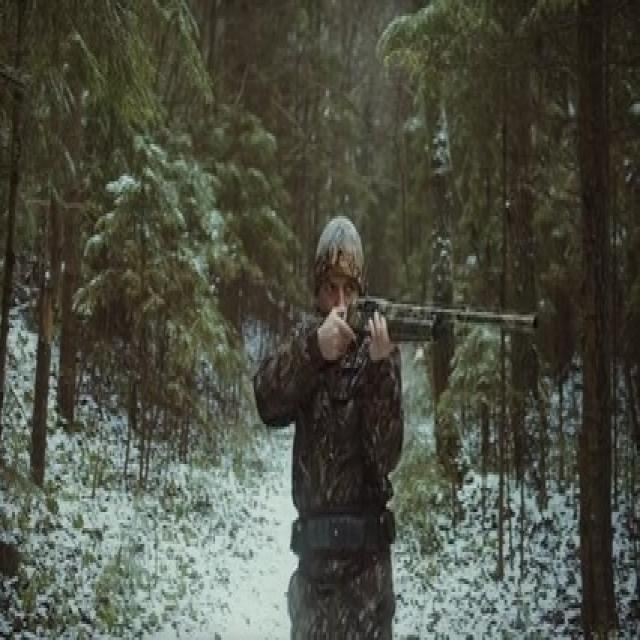Gun_Holder: (328, 293, 546, 378)
Person: (252, 201, 404, 640)
